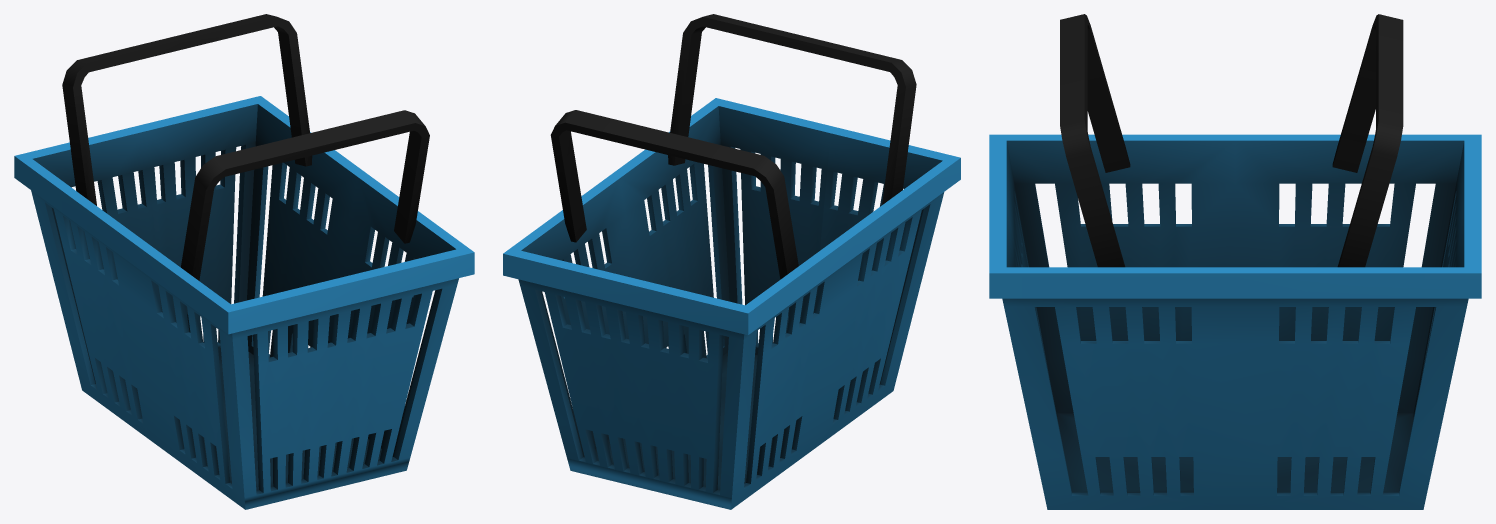
The model's file is human-containers-shopping-basket_v2.glb.
The picture shows the model from 3 angles, left to right: view 1: azimuth 30°, elevation 25°; view 2: azimuth 150°, elevation 25°; view 3: azimuth 270°, elevation 25°; orthographic projection. The views are drawn at different scales.
Visible parts, largest first — view 1: Shopping Basket_v2; view 2: Shopping Basket_v2; view 3: Shopping Basket_v2.
Boxes of the visible parts, left/top/right/bottom form: Shopping Basket_v2: left=14, top=14, right=474, bottom=509; Shopping Basket_v2: left=503, top=14, right=960, bottom=509; Shopping Basket_v2: left=989, top=14, right=1481, bottom=509.
Size of the model in its own units: 0.2993 by 0.4007 by 0.45.
